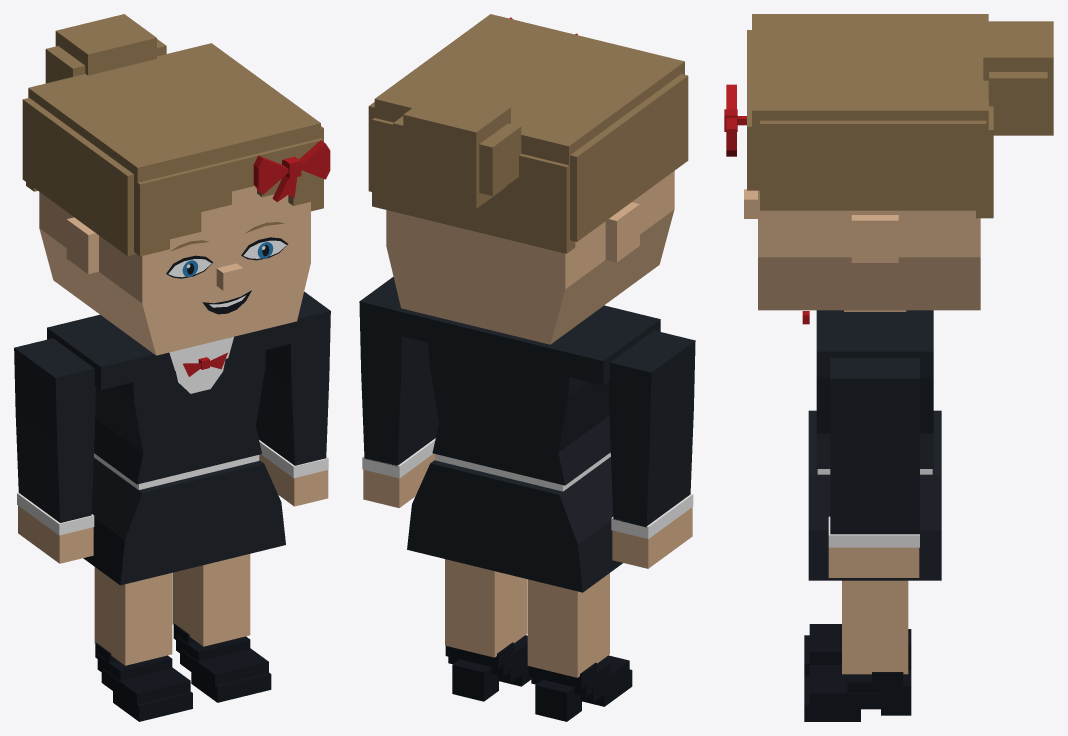
Rendered from female_bun.glb.
3 views of the same model, side by side, from view 1: azimuth 30°, elevation 25°; view 2: azimuth 150°, elevation 25°; view 3: azimuth 270°, elevation 25° (orthographic). The views are drawn at different scales.
Visible parts, largest first — view 1: char_hair_visual, char_torso_visual, char_head_visual, char_arm_negx_visual, char_leg_negx_visual, char_leg_posx_visual, char_arm_posx_visual, char_bow_visual, char_hand_negx_visual, char_hand_posx_visual, char_eye_negx_visual, char_eye_posx_visual; view 2: char_hair_visual, char_torso_visual, char_head_visual, char_arm_negx_visual, char_arm_posx_visual, char_leg_negx_visual, char_leg_posx_visual, char_hand_negx_visual, char_hand_posx_visual; view 3: char_hair_visual, char_head_visual, char_arm_posx_visual, char_torso_visual, char_leg_posx_visual, char_hand_posx_visual, char_leg_negx_visual, char_bow_visual.
Part boxes in pixels (x1=…): char_hair_visual: x1=22, y1=14, x2=323, y2=256; char_torso_visual: x1=47, y1=314, x2=297, y2=585; char_head_visual: x1=39, y1=186, x2=310, y2=355; char_arm_negx_visual: x1=14, y1=338, x2=95, y2=535; char_leg_negx_visual: x1=94, y1=567, x2=192, y2=721; char_leg_posx_visual: x1=172, y1=554, x2=271, y2=702; char_arm_posx_visual: x1=256, y1=291, x2=330, y2=477; char_bow_visual: x1=253, y1=140, x2=330, y2=202; char_hand_negx_visual: x1=18, y1=505, x2=93, y2=563; char_hand_posx_visual: x1=259, y1=454, x2=328, y2=506; char_eye_negx_visual: x1=166, y1=255, x2=212, y2=278; char_eye_posx_visual: x1=241, y1=237, x2=287, y2=260; char_hair_visual: x1=368, y1=14, x2=688, y2=253; char_torso_visual: x1=394, y1=305, x2=660, y2=592; char_head_visual: x1=386, y1=171, x2=674, y2=344; char_arm_negx_visual: x1=608, y1=330, x2=695, y2=538; char_arm_posx_visual: x1=359, y1=276, x2=438, y2=478; char_leg_negx_visual: x1=527, y1=573, x2=632, y2=721; char_leg_posx_visual: x1=445, y1=559, x2=531, y2=701; char_hand_negx_visual: x1=612, y1=507, x2=692, y2=568; char_hand_posx_visual: x1=363, y1=453, x2=435, y2=507; char_hair_visual: x1=747, y1=14, x2=1053, y2=218; char_head_visual: x1=744, y1=189, x2=980, y2=311; char_arm_posx_visual: x1=828, y1=358, x2=919, y2=547; char_torso_visual: x1=802, y1=310, x2=941, y2=580; char_leg_posx_visual: x1=804, y1=580, x2=911, y2=721; char_hand_posx_visual: x1=828, y1=547, x2=919, y2=577; char_leg_negx_visual: x1=804, y1=624, x2=911, y2=676; char_bow_visual: x1=724, y1=84, x2=746, y2=156.
Bounding box in the file's own units: 0.88 × 1.83 × 0.843.
